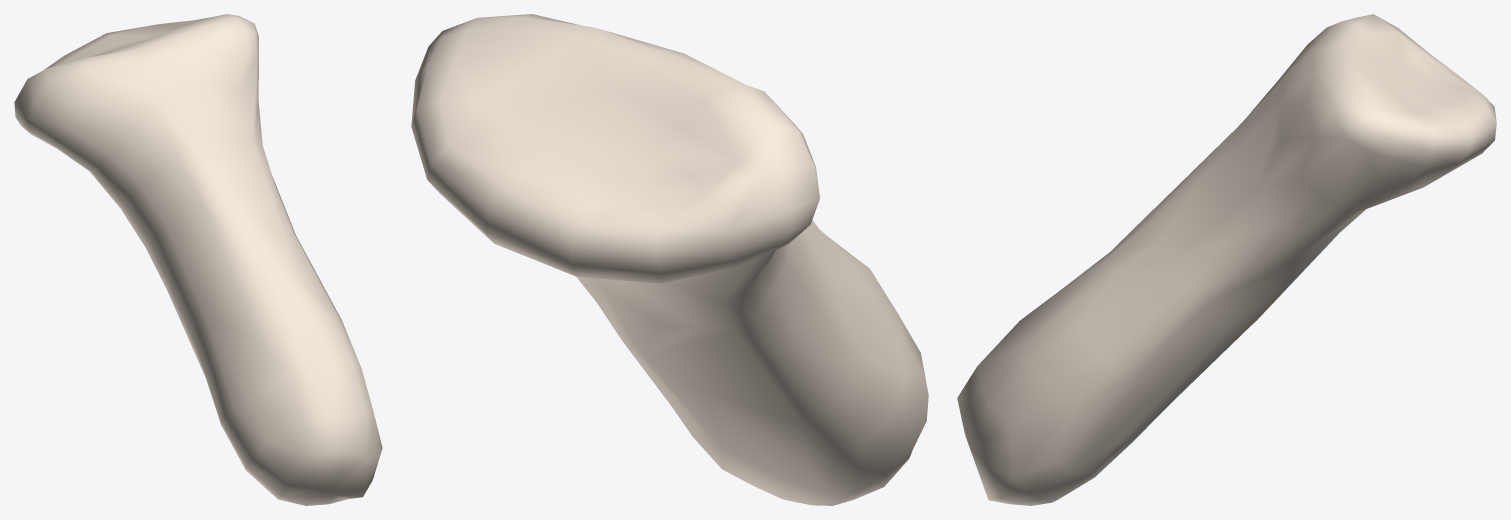
The model's file is right_digit_5_distal.glb.
3 views of the same model, side by side, from view 1: azimuth 30°, elevation 25°; view 2: azimuth 150°, elevation 25°; view 3: azimuth 270°, elevation 25° (orthographic). The views are drawn at different scales.
Visible parts, largest first — view 1: Distal phalanx of 5th finger.r; view 2: Distal phalanx of 5th finger.r; view 3: Distal phalanx of 5th finger.r.
Boxes of the visible parts, <box> form: Distal phalanx of 5th finger.r: <box>14,14,382,505</box>; Distal phalanx of 5th finger.r: <box>411,14,928,505</box>; Distal phalanx of 5th finger.r: <box>957,14,1496,505</box>.
Bounding box in the file's own units: 0.00773 × 0.0122 × 0.0137.
